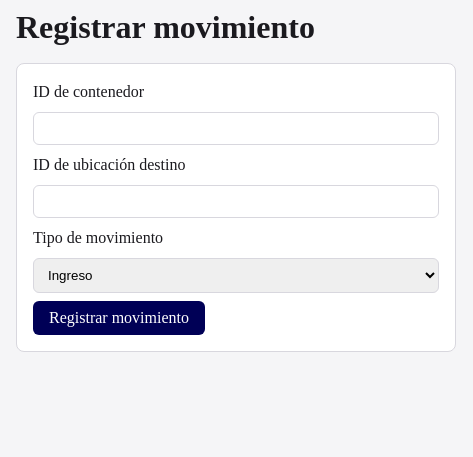
Scenario: MovimientosPage › registers a movimiento with the form values
Step 1. Type "c1" into the field labelled "ID de contenedor" → x=236, y=128, box [33,112,439,145]
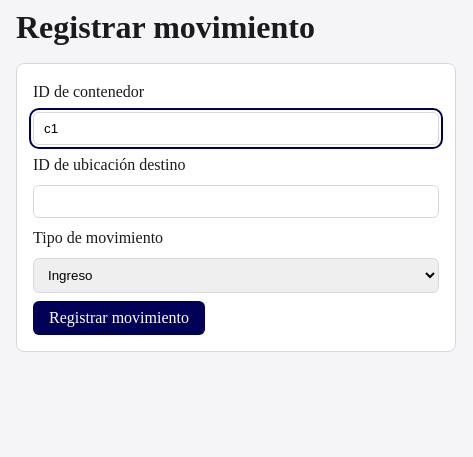
Step 2. Type "u1" into the field labelled "ID de ubicación destino" → x=236, y=202, box [33,185,439,218]
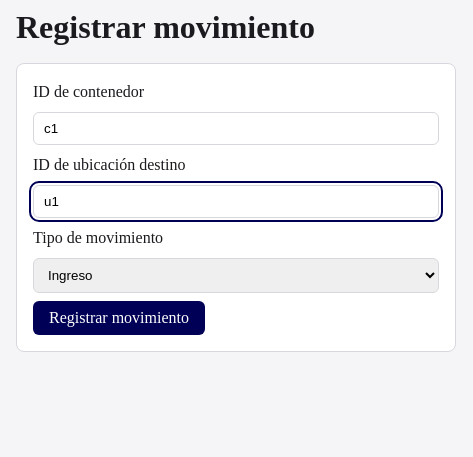
Step 3. Click the button "Registrar movimiento" → x=119, y=318, box [33,301,205,335]
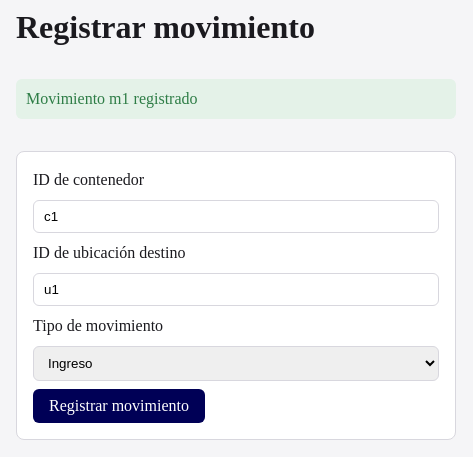
Now the text "Movimiento m1 registrado" is shown, box [16,79,456,119]
